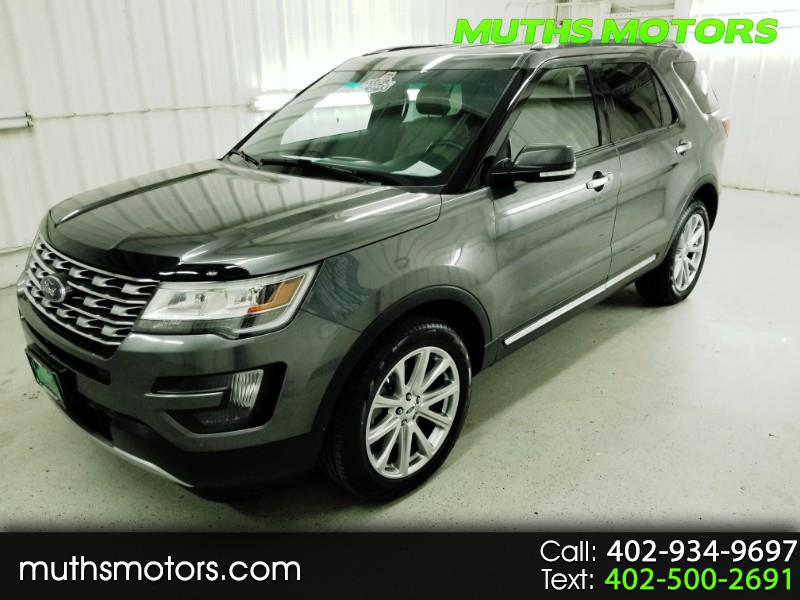Ford Explorer: (13, 27, 733, 513)
